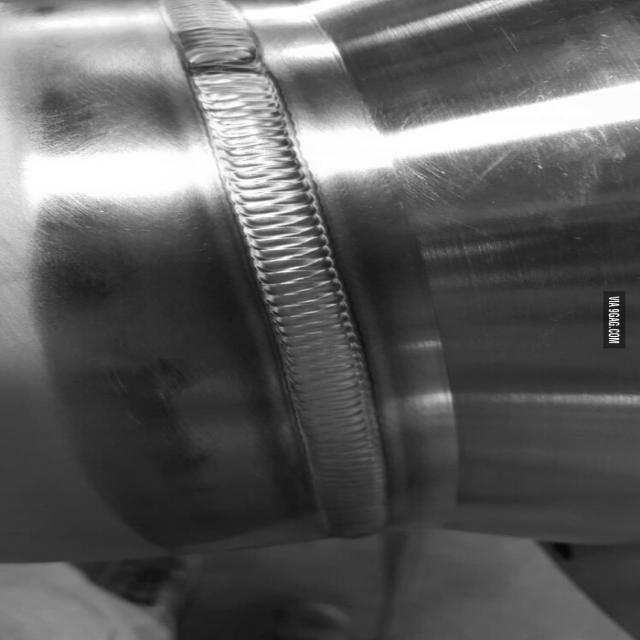Good Welding: (166, 13, 395, 542)
